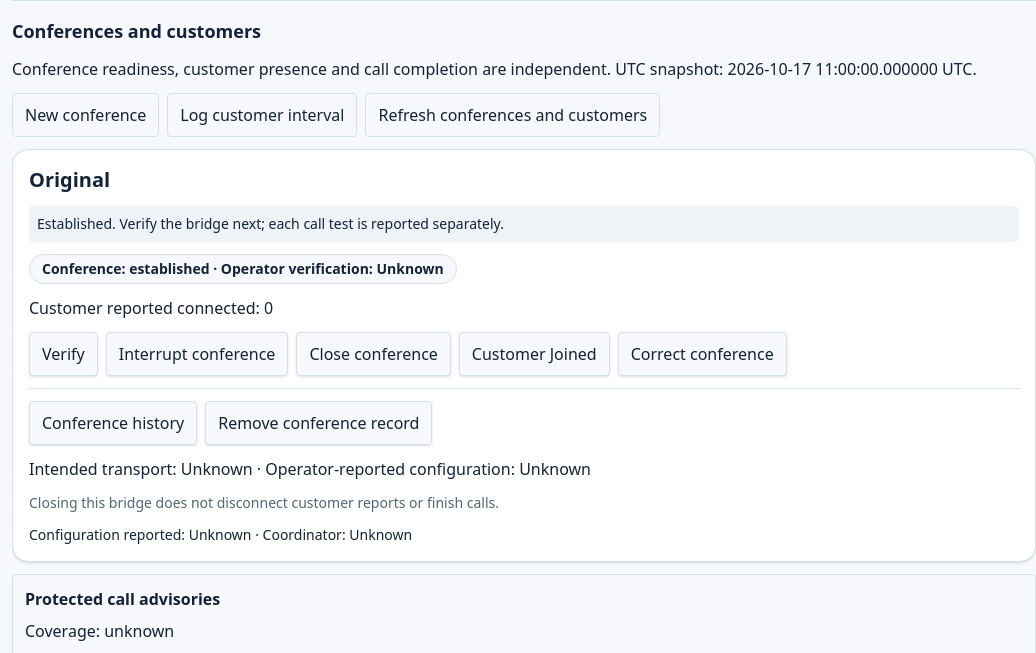
Test: owns a lost quick-action command until receipt reconciliation
Click the button "Customer Joined" at (534, 354), box [459,332,610,376]
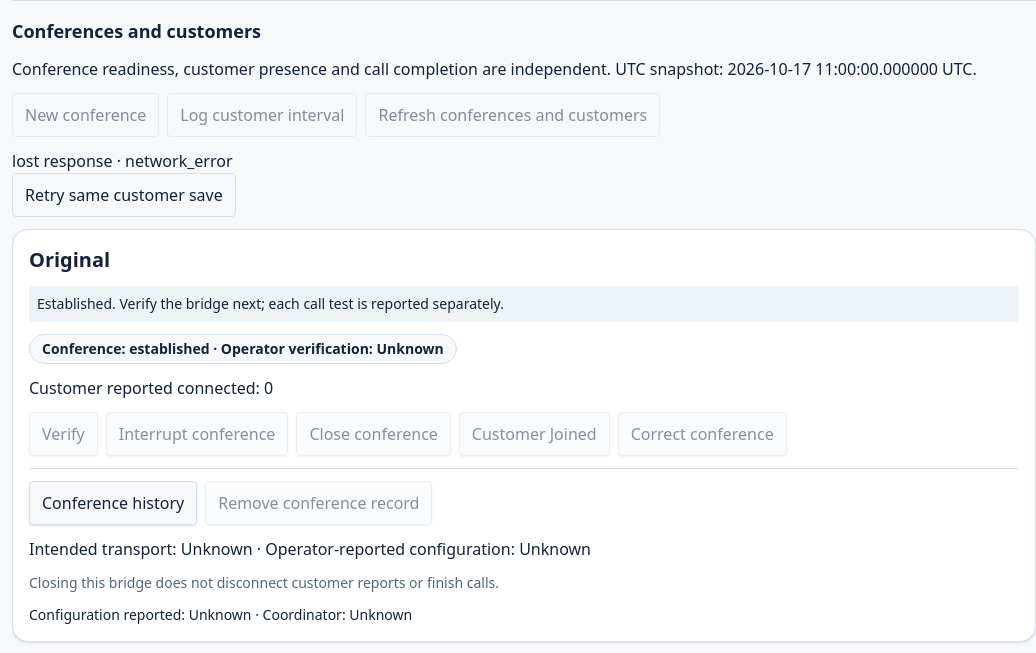
Expected: the button "Retry same customer save" is shown, [12,173,236,217]
